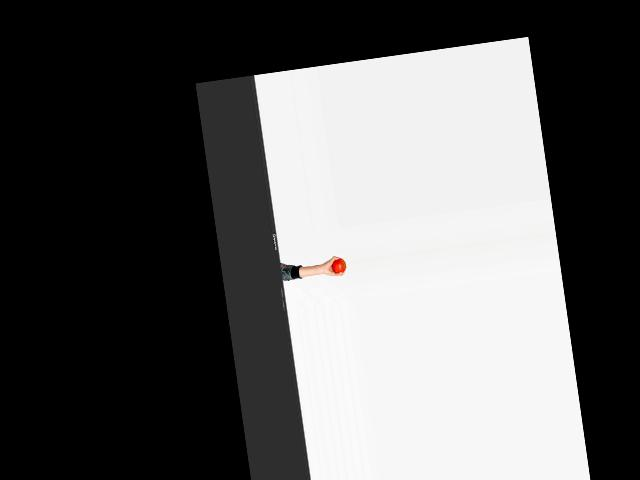tomato: (331, 257, 347, 274)
